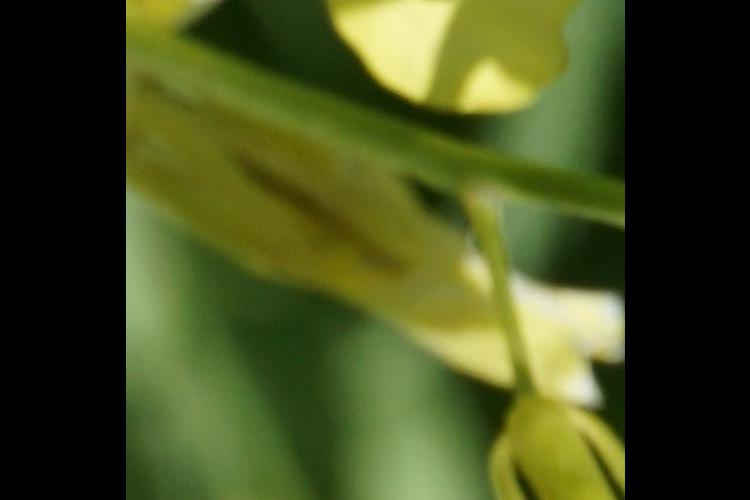yellow: (317, 1, 582, 110), (484, 365, 592, 500)
